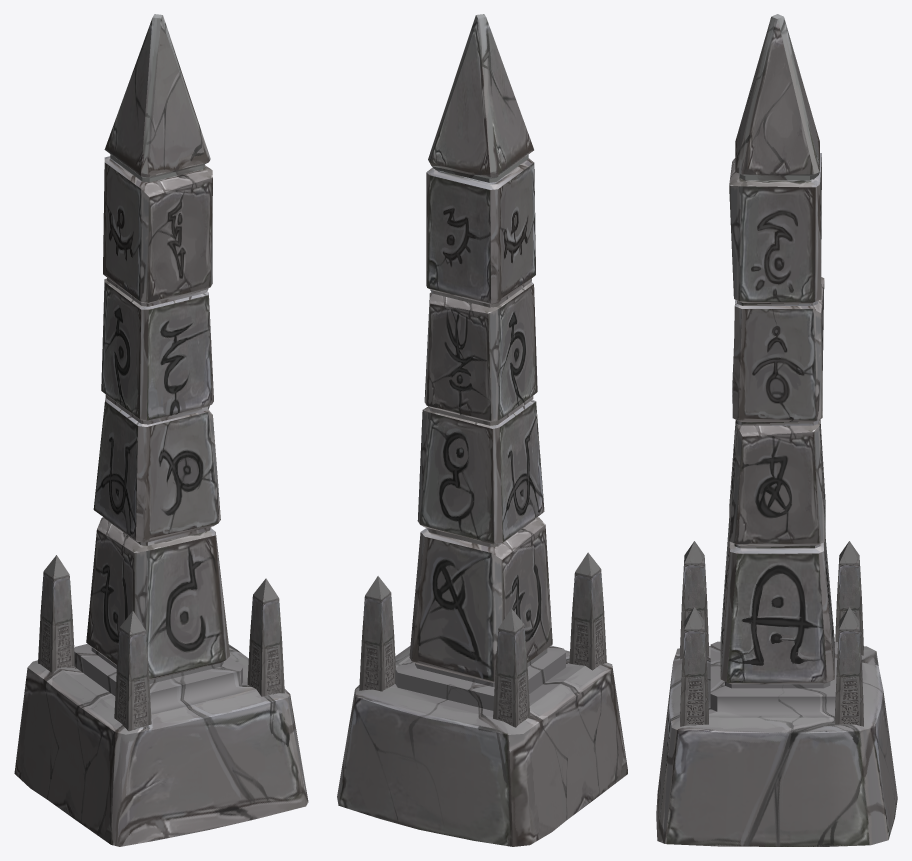
The model's file is odelisk_all.FBX.
The picture shows the model from 3 angles, left to right: view 1: azimuth 30°, elevation 25°; view 2: azimuth 150°, elevation 25°; view 3: azimuth 270°, elevation 25°; orthographic projection.
Parts seen in each view (by area): view 1: Pyramid003, lock007, lock006, lock1, lock005; view 2: Pyramid003, lock007, lock006, lock1, lock005; view 3: Pyramid003, lock007, lock1, lock006, lock005.
Boxes of the visible parts, x1,y1,x2,y2 form: Pyramid003: (14,14,308,846); lock007: (86,517,229,680); lock006: (93,398,220,542); lock1: (103,156,212,303); lock005: (101,278,213,421); Pyramid003: (337,14,627,846); lock007: (409,517,552,682); lock006: (417,399,544,544); lock1: (426,158,535,304); lock005: (424,282,537,422); Pyramid003: (656,14,897,846); lock007: (720,518,834,684); lock1: (729,153,821,302); lock006: (729,419,825,545); lock005: (732,277,824,421).
Size of the model in its own units: 112 by 412 by 116.
